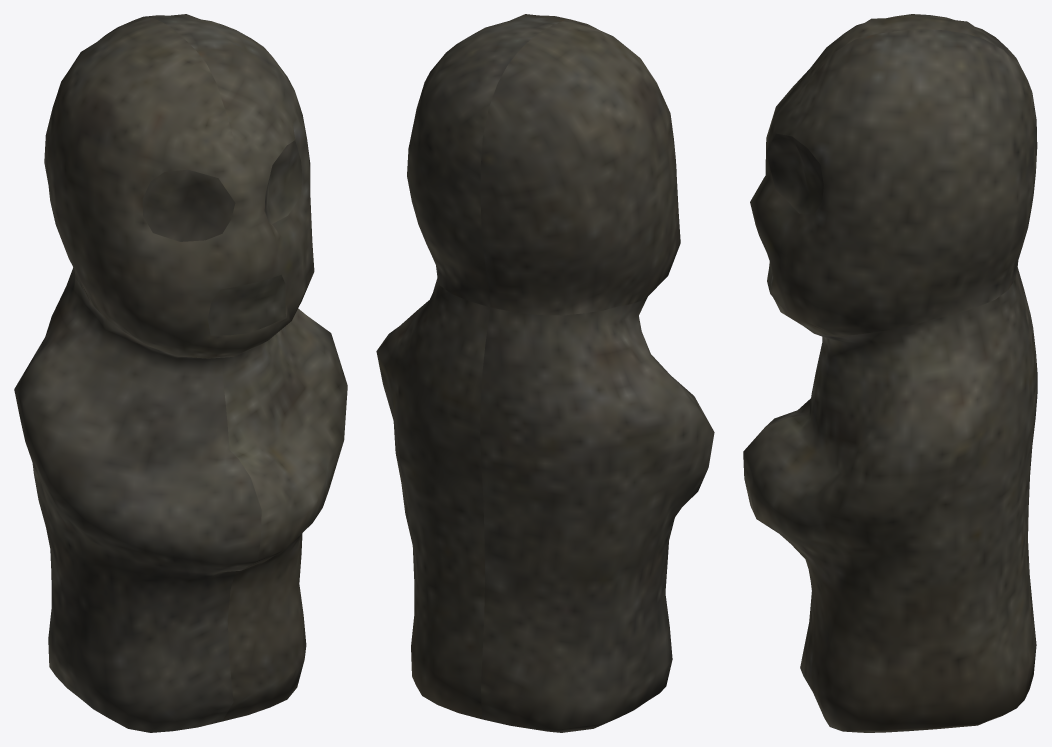
Rendered from statue.fbx.
3 views of the same model, side by side, from view 1: azimuth 30°, elevation 25°; view 2: azimuth 150°, elevation 25°; view 3: azimuth 270°, elevation 25° (orthographic).
Parts seen in each view (by area): view 1: RetopoFlow; view 2: RetopoFlow; view 3: RetopoFlow.
Boxes of the visible parts, x1=… form: RetopoFlow: x1=14, y1=14, x2=347, y2=732; RetopoFlow: x1=376, y1=14, x2=714, y2=732; RetopoFlow: x1=743, y1=14, x2=1037, y2=732.
Bounding box in the file's own units: 414 × 861 × 341.
Materials: 1 (1 with a texture image).
